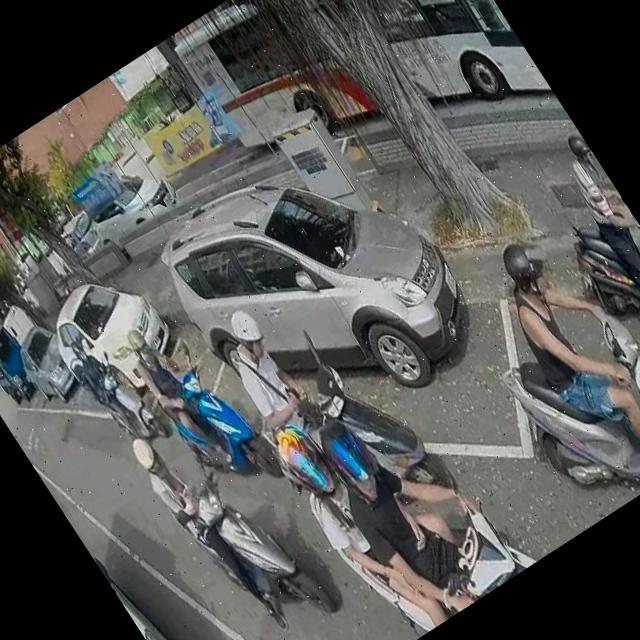person: (258, 371, 492, 640), (302, 372, 528, 631), (469, 209, 640, 501), (122, 410, 298, 640), (114, 304, 248, 477), (545, 136, 640, 354), (205, 297, 330, 453), (58, 332, 145, 444)
